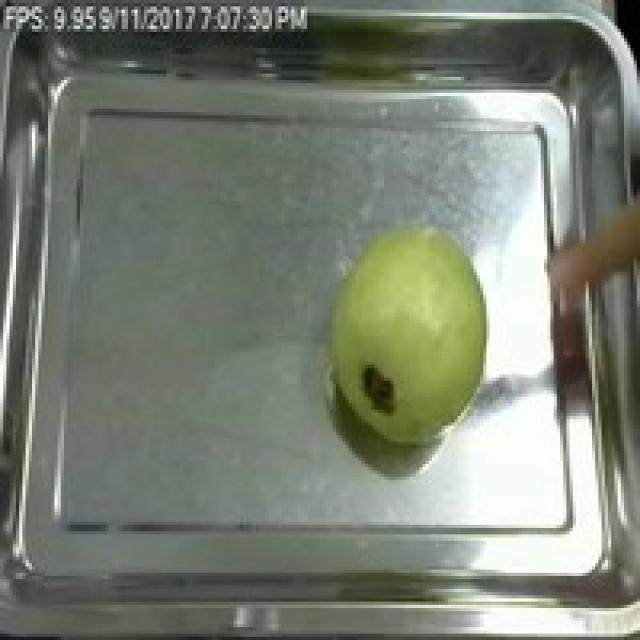Fruit: (310, 215, 502, 454)
